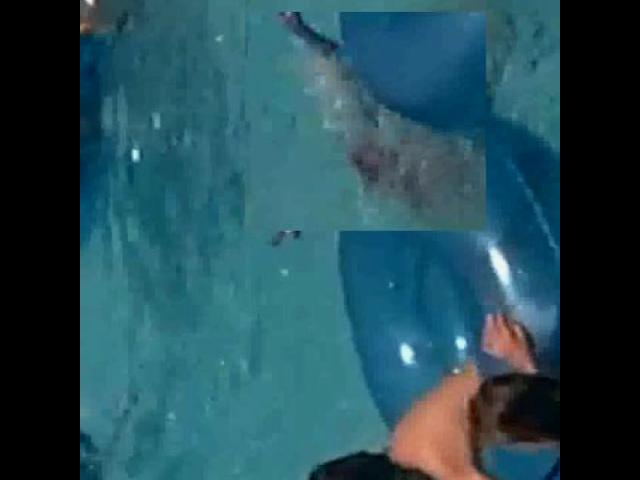drowning: (245, 9, 487, 229)
swimming: (471, 296, 560, 438), (289, 416, 461, 480)
